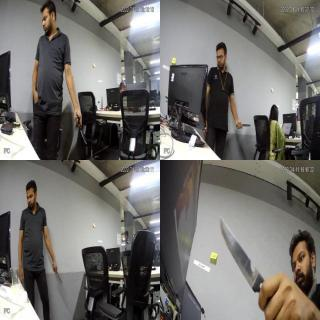knife: (220, 214, 268, 290), (77, 120, 87, 148), (236, 120, 251, 134), (56, 270, 64, 286)
